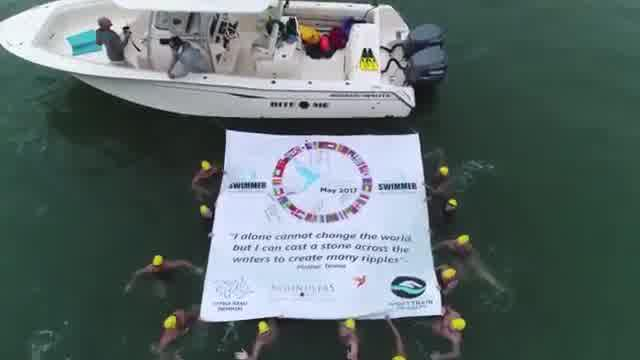human: (153, 302, 198, 355), (236, 314, 285, 360), (429, 308, 473, 359), (132, 253, 202, 282), (431, 230, 479, 265), (381, 313, 411, 358), (334, 320, 364, 360), (428, 260, 462, 295), (190, 160, 220, 198)
